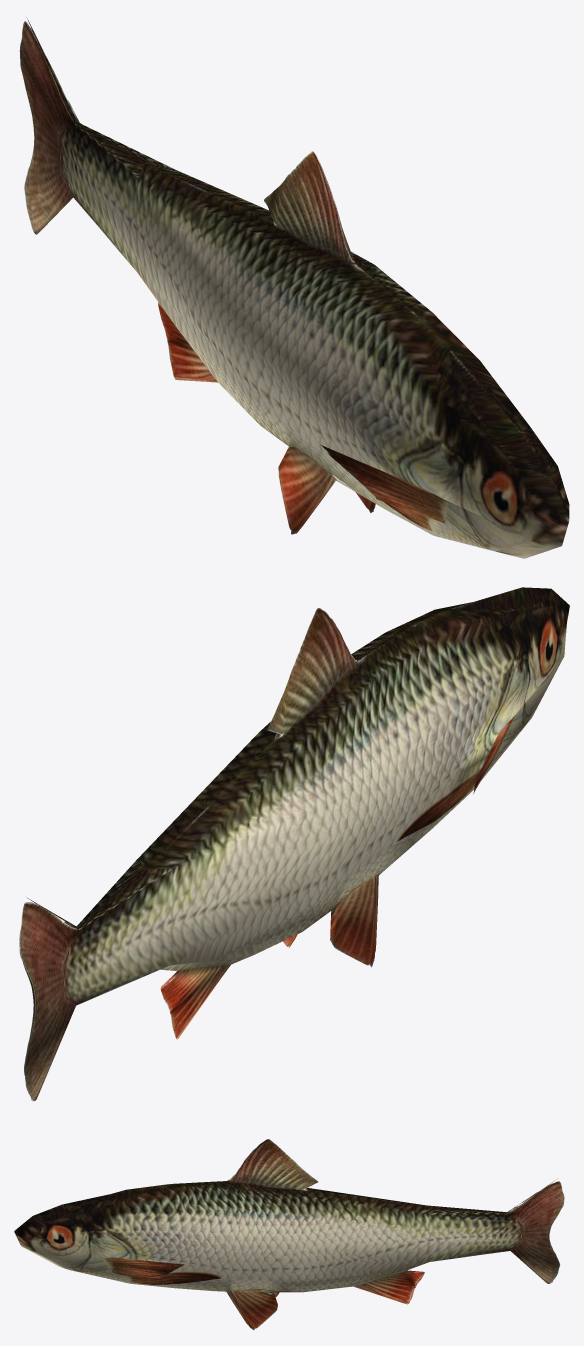
File: fish.fbx
3 renders of one model, top to bottom at view 1: azimuth 30°, elevation 25°; view 2: azimuth 150°, elevation 25°; view 3: azimuth 270°, elevation 25°, orthographic. The views are drawn at different scales.
Visible parts, largest first — view 1: Cube; view 2: Cube; view 3: Cube.
Boxes of the visible parts, box(x1,y1,x2,y2) form: Cube: box(19, 17, 569, 558); Cube: box(19, 587, 569, 1101); Cube: box(14, 1139, 564, 1330).
Bounding box in the file's own units: 74.05 × 171 × 466.
